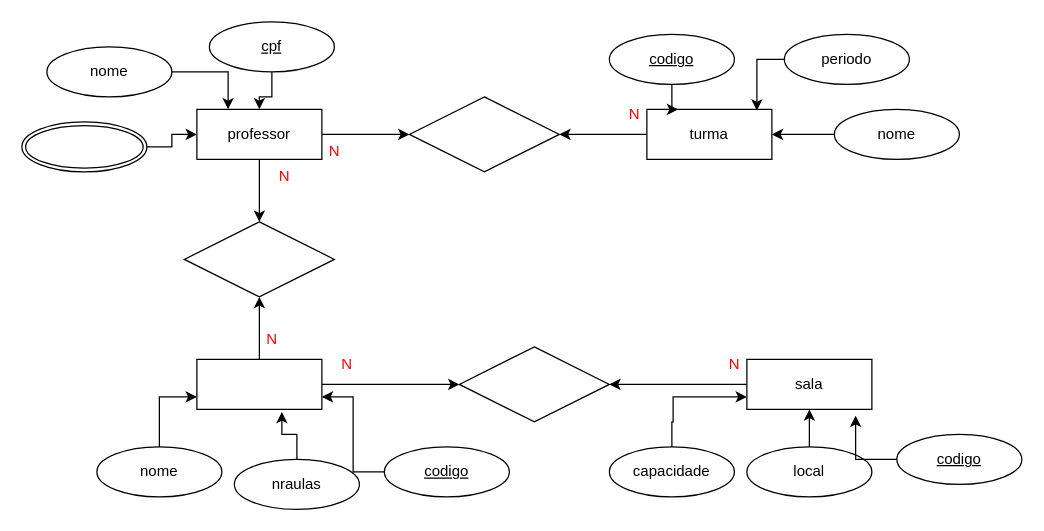
Some shapes in this 1044 by 531 pixel diagram are drawn without their labels. The centre of each missing label's shape, as x and y in pixels:
"alocada" belongs at (x=533, y=384).
"disciplina" belongs at (x=259, y=383).
"leciona" belongs at (x=483, y=134).
"ministra" belongs at (x=258, y=259).
"telefone" belongs at (x=84, y=146).
